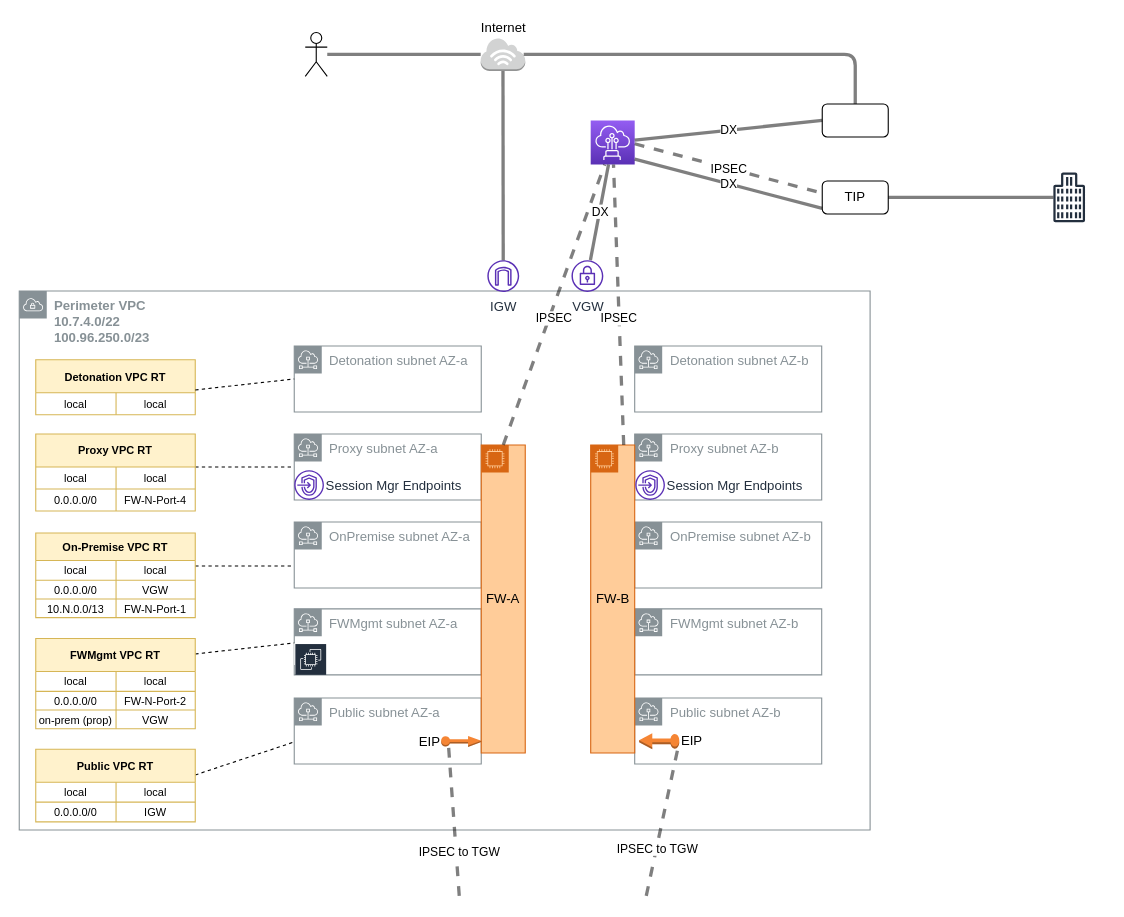
Image size: 1124x917. Some labels were removed from this diagram. Here are the shapes that lost their labels. From the top down, the centre of each, then its label:
At point (315, 53): "Public Traffic".
At point (854, 120): "CAP".
At point (612, 141): "Direct Connect".
At point (1069, 197): "on-premises".
At point (310, 653): "Firewall Manager".
